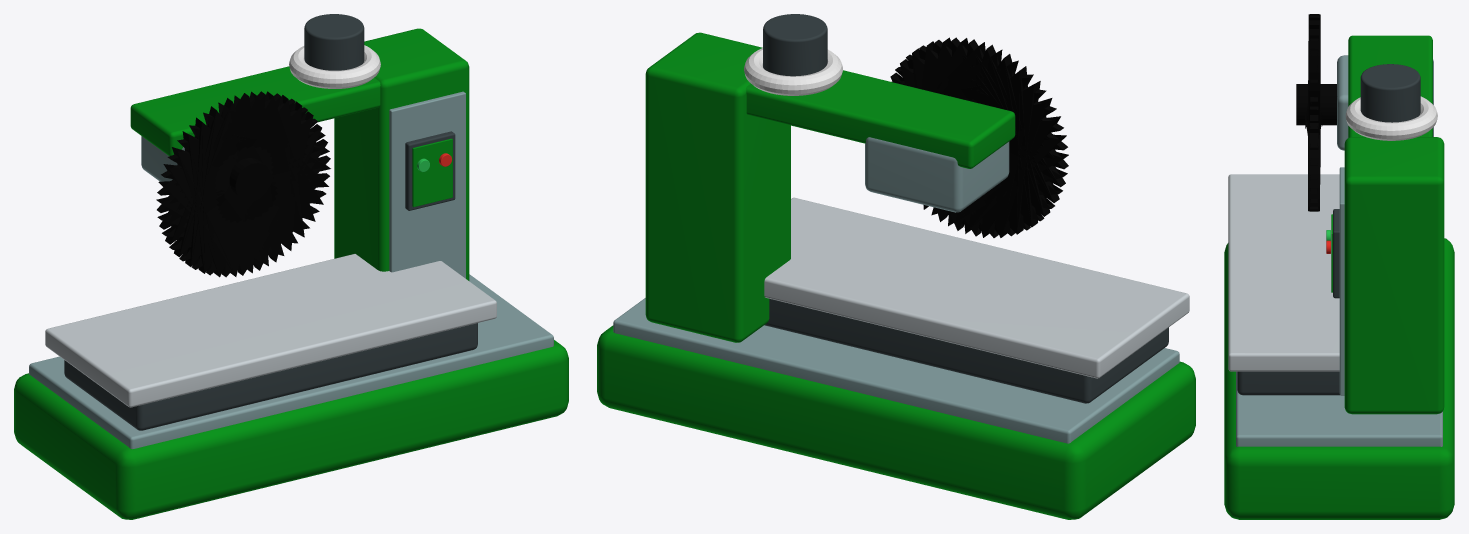
File: пила.fbx
3 views of the same model, side by side, from view 1: azimuth 30°, elevation 25°; view 2: azimuth 150°, elevation 25°; view 3: azimuth 270°, elevation 25° (orthographic). The views are drawn at different scales.
Visible parts, largest first — view 1: Основание станка, Рабочий стол, Цилиндр, Вертикальная колонна.001, Верхняя крышка основания, Салазки стола, Передняя крышка колонны.001, Консоль головки, Электродвигатель.001, Лицевая панель.001, Тор.030, Цилиндр.001 (+2 smaller); view 2: Основание станка, Рабочий стол, Вертикальная колонна.001, Верхняя крышка основания, Цилиндр, Консоль головки, Салазки стола, Корпус шлифовальной головки, Электродвигатель.001, Тор.030; view 3: Вертикальная колонна.001, Рабочий стол, Основание станка, Верхняя крышка основания, Консоль головки, Электродвигатель.001, Цилиндр, Салазки стола, Тор.030, Передняя крышка колонны.001, Цилиндр.001, Корпус шлифовальной головки (+1 smaller).
Part boxes in pixels (left/top/right/bottom): Основание станка: left=14, top=340, right=568, bottom=519; Рабочий стол: left=45, top=254, right=496, bottom=407; Цилиндр: left=156, top=91, right=330, bottom=277; Вертикальная колонна.001: left=334, top=28, right=469, bottom=280; Верхняя крышка основания: left=29, top=274, right=553, bottom=449; Салазки стола: left=64, top=323, right=477, bottom=430; Передняя крышка колонны.001: left=389, top=91, right=465, bottom=278; Консоль головки: left=130, top=66, right=380, bottom=156; Электродвигатель.001: left=304, top=14, right=364, bottom=70; Лицевая панель.001: left=412, top=138, right=452, bottom=207; Тор.030: left=289, top=45, right=380, bottom=88; Цилиндр.001: left=229, top=158, right=271, bottom=201; Основание станка: left=597, top=325, right=1195, bottom=519; Рабочий стол: left=764, top=197, right=1189, bottom=378; Вертикальная колонна.001: left=645, top=32, right=790, bottom=342; Верхняя крышка основания: left=613, top=298, right=1179, bottom=443; Цилиндр: left=890, top=37, right=1068, bottom=237; Консоль головки: left=746, top=70, right=1015, bottom=168; Салазки стола: left=764, top=298, right=1168, bottom=403; Корпус шлифовальной головки: left=865, top=137, right=1009, bottom=212; Электродвигатель.001: left=763, top=14, right=827, bottom=76; Тор.030: left=744, top=48, right=842, bottom=95; Вертикальная колонна.001: left=1344, top=137, right=1444, bottom=414; Рабочий стол: left=1228, top=174, right=1339, bottom=371; Основание станка: left=1224, top=238, right=1454, bottom=519; Верхняя крышка основания: left=1236, top=371, right=1442, bottom=446; Консоль головки: left=1348, top=35, right=1432, bottom=137; Электродвигатель.001: left=1360, top=64, right=1420, bottom=122; Цилиндр: left=1304, top=14, right=1322, bottom=211; Салазки стола: left=1237, top=371, right=1339, bottom=395; Тор.030: left=1345, top=96, right=1437, bottom=140; Передняя крышка колонны.001: left=1339, top=167, right=1344, bottom=395; Цилиндр.001: left=1296, top=84, right=1336, bottom=125; Корпус шлифовальной головки: left=1337, top=55, right=1433, bottom=150.
Size of the model in its own units: 410 by 321 by 180.
